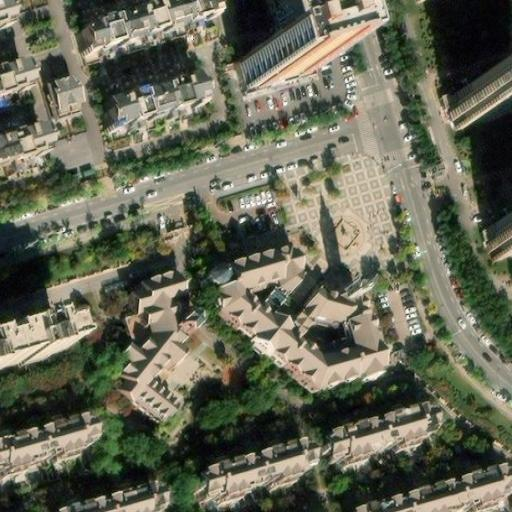building: (203, 245, 392, 392), (112, 268, 208, 424), (357, 461, 512, 512), (190, 441, 308, 503), (327, 401, 445, 463), (70, 0, 207, 52), (0, 413, 105, 475), (92, 74, 194, 126), (238, 37, 316, 89), (0, 327, 82, 374), (446, 69, 512, 126), (67, 490, 166, 512), (0, 136, 52, 171), (46, 76, 82, 115), (483, 213, 512, 261), (0, 71, 35, 104)
